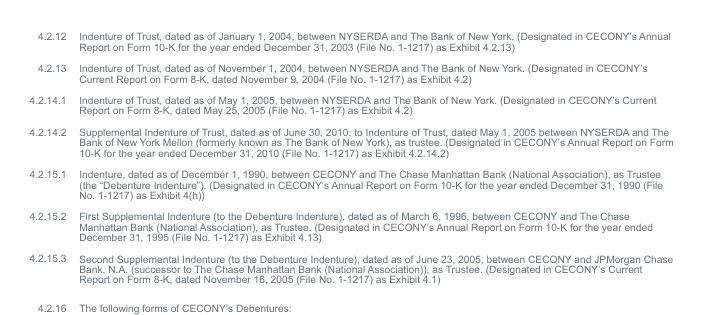table: (28, 29, 672, 284)
table column: (71, 29, 672, 284), (28, 29, 71, 284)
table row: (28, 120, 672, 162), (28, 162, 672, 204), (28, 204, 672, 246), (28, 246, 672, 284), (28, 56, 672, 88), (28, 88, 672, 120), (28, 29, 672, 56)
